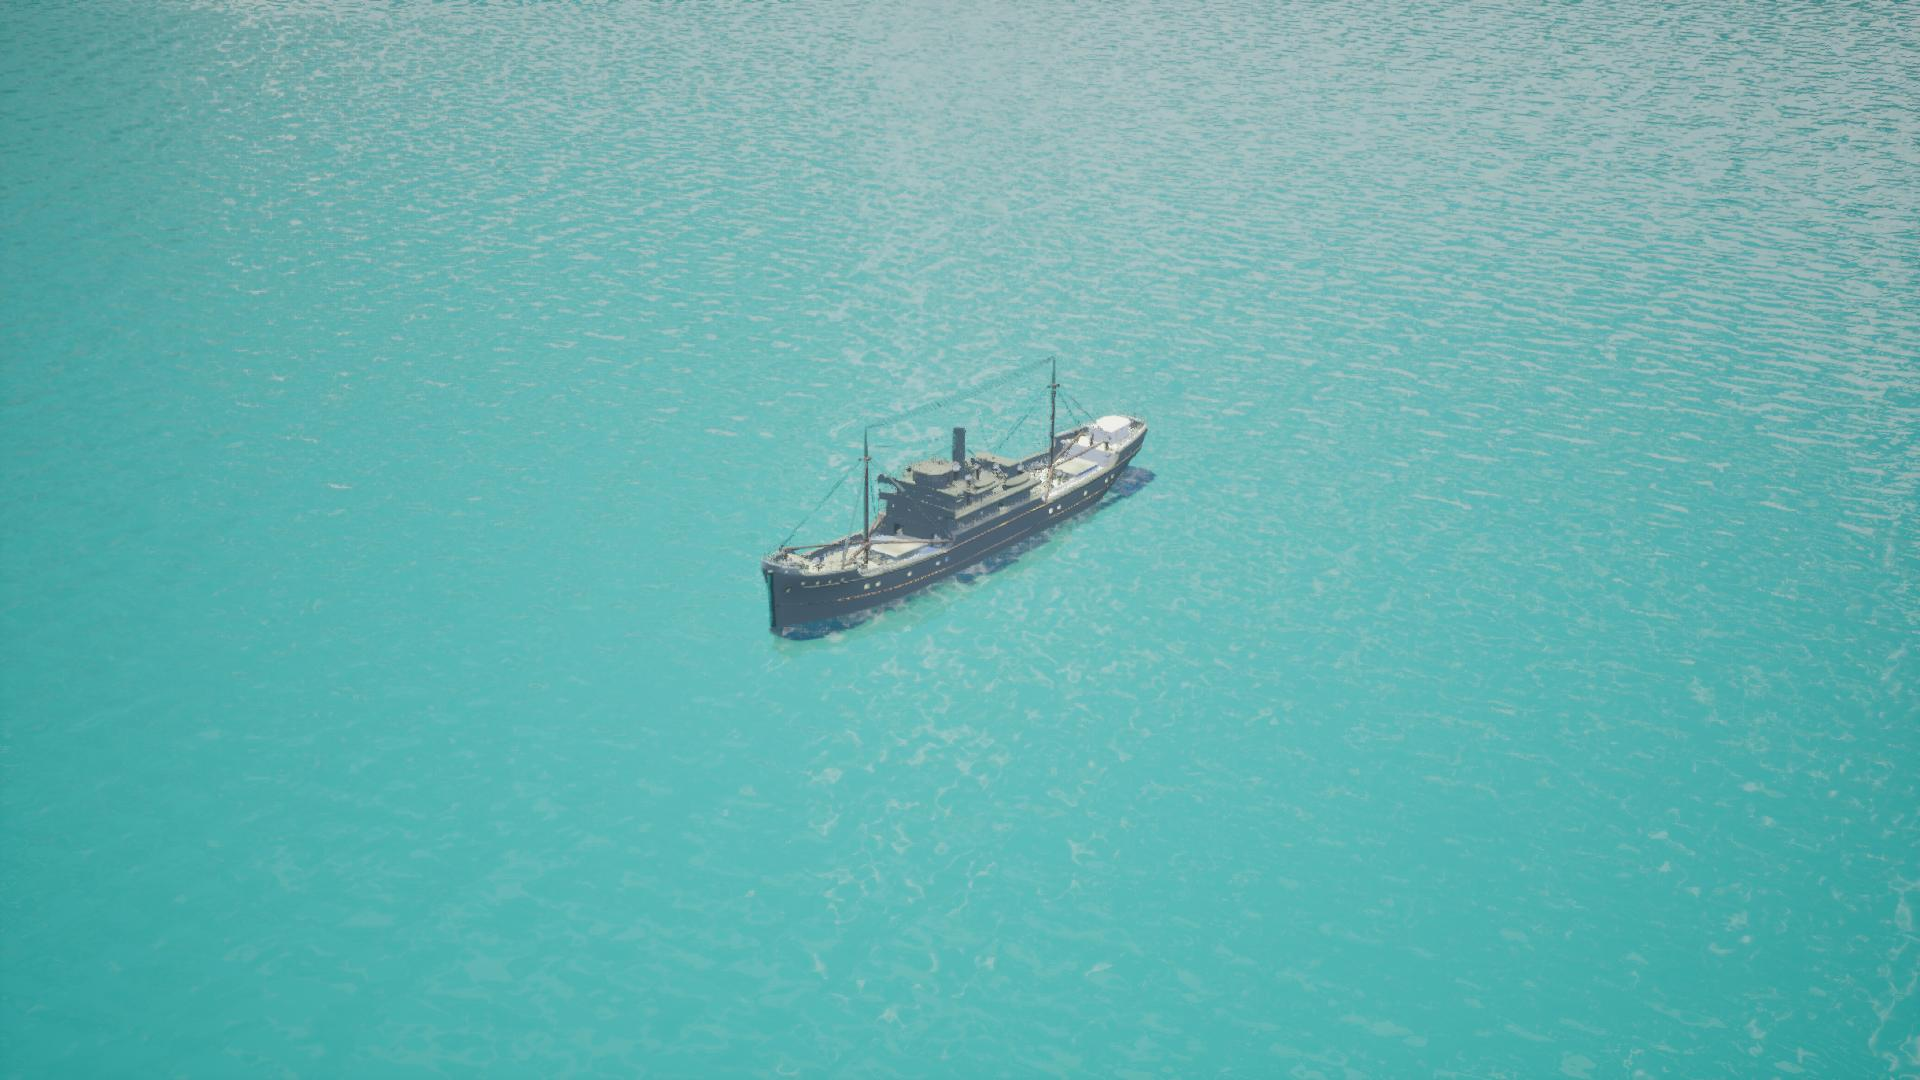Fishing Boat: (758, 413, 1159, 645)
